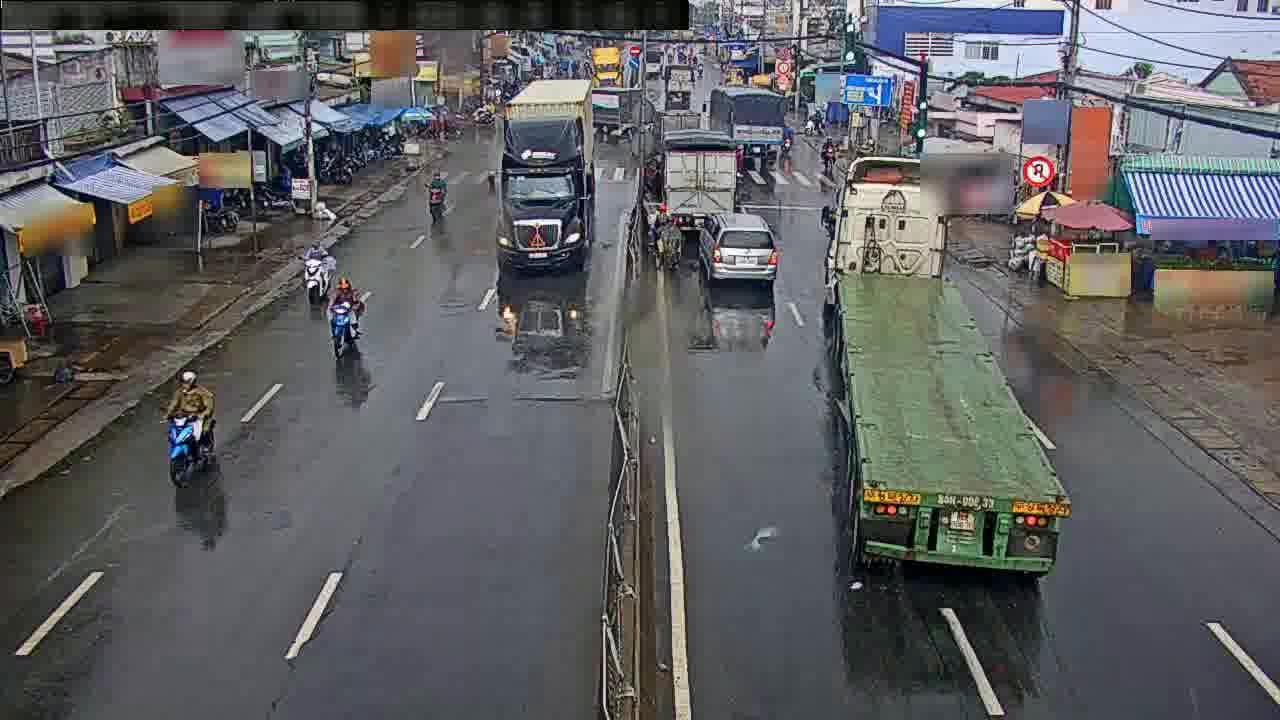8: (496, 80, 595, 263), (660, 130, 734, 215), (715, 87, 785, 154)
container: (704, 218, 780, 285)
motorbike: (162, 370, 225, 481), (324, 273, 365, 356), (297, 241, 332, 304), (654, 218, 681, 271), (423, 168, 449, 217), (816, 133, 836, 170)
